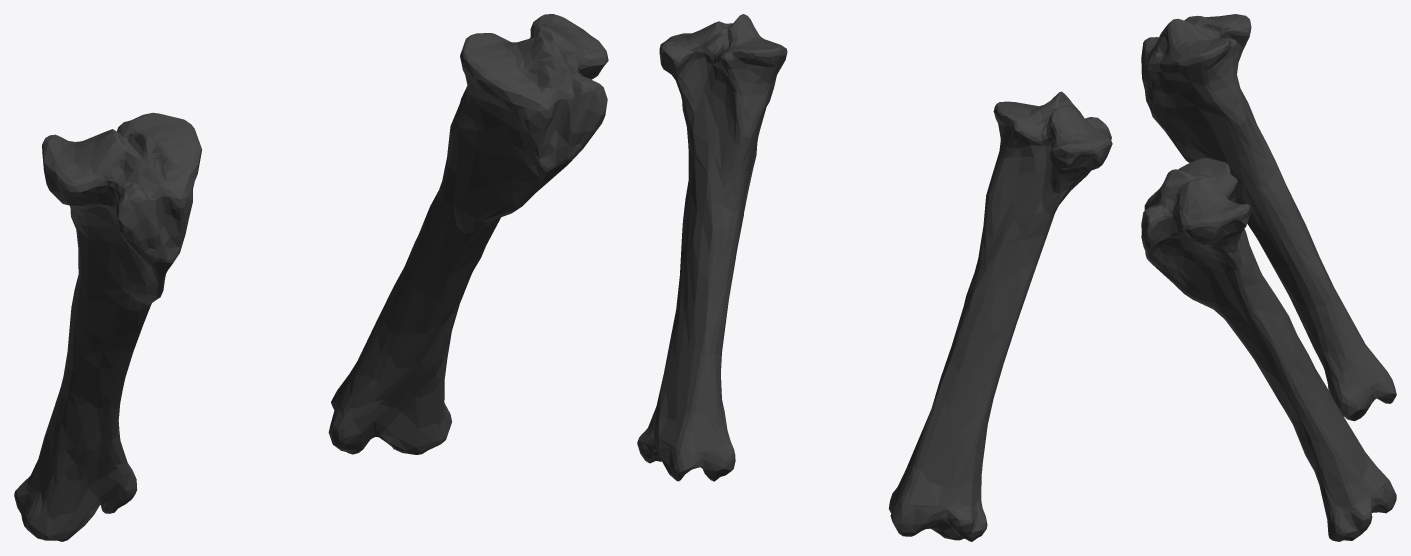
File: skel_tibia.glb
3 renders of one model, left to right at view 1: azimuth 30°, elevation 25°; view 2: azimuth 150°, elevation 25°; view 3: azimuth 270°, elevation 25°, orthographic. The views are drawn at different scales.
Visible parts, largest first — view 1: skel_tibia; view 2: skel_tibia; view 3: skel_tibia.
Part boxes in pixels (box(x1,y1,x2,y2)): skel_tibia: box(14, 14, 608, 541); skel_tibia: box(637, 14, 1112, 541); skel_tibia: box(1141, 14, 1396, 541).
Size of the model in its own units: 0.00736 by 0.00627 by 0.00384.
1 material, 1 textured.
